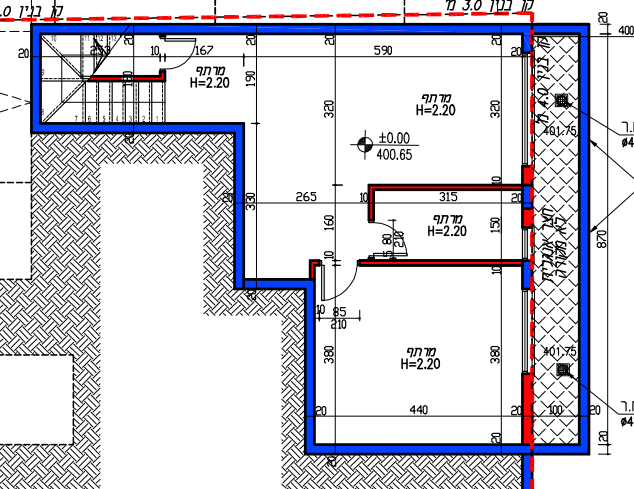door: (320, 267, 365, 302), (376, 215, 413, 257), (169, 35, 198, 73)
wall: (580, 27, 589, 444), (32, 25, 498, 31), (309, 445, 526, 452), (306, 282, 313, 449), (136, 124, 239, 131), (33, 125, 131, 132), (236, 127, 242, 200)
